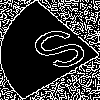S: (25, 24, 100, 82)
